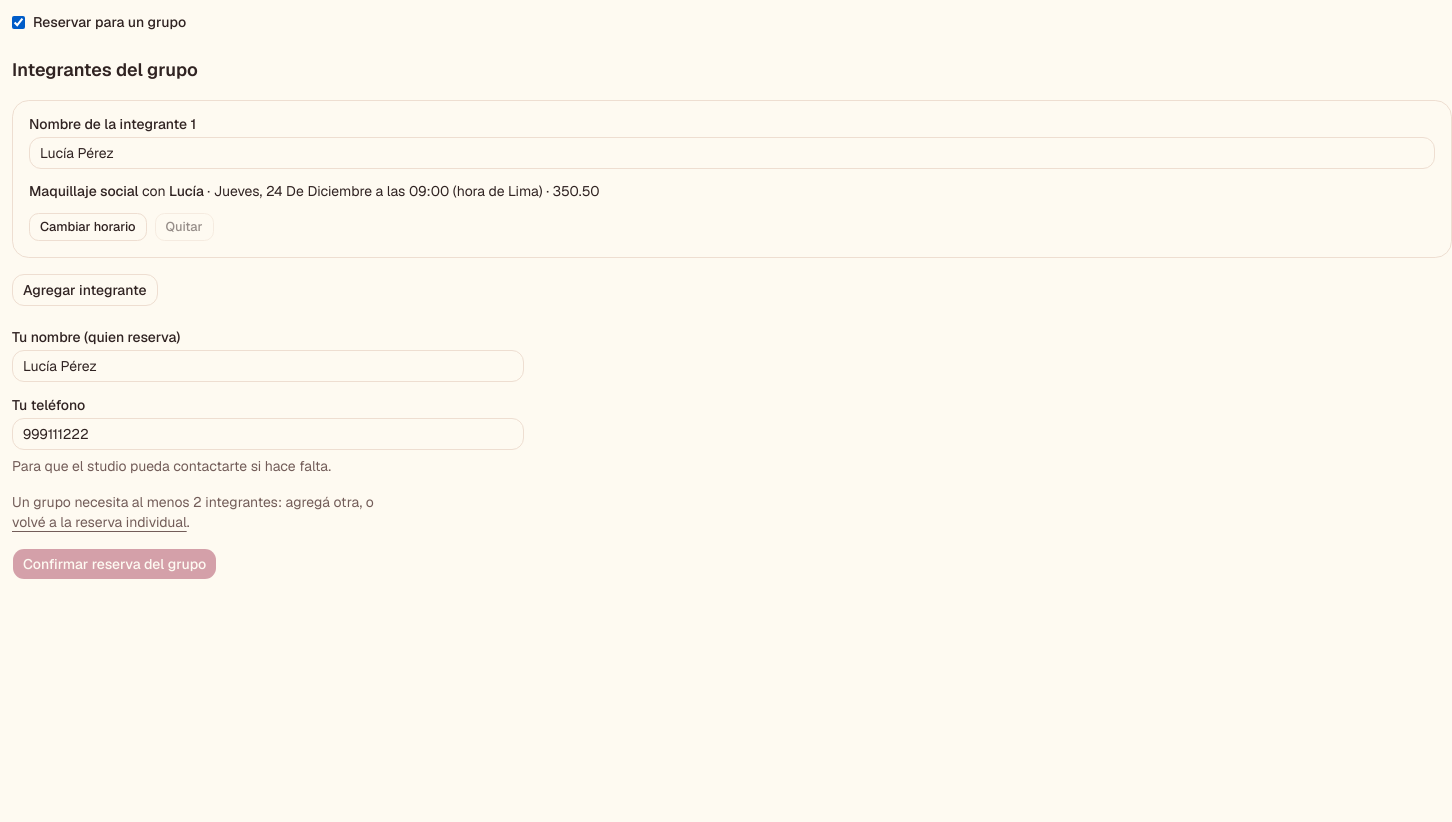
Test: armar el grupo › una integrante agregada aparece incompleta y no se puede confirmar
Click the button "Agregar integrante": x=85, y=290 [12,274,158,306]
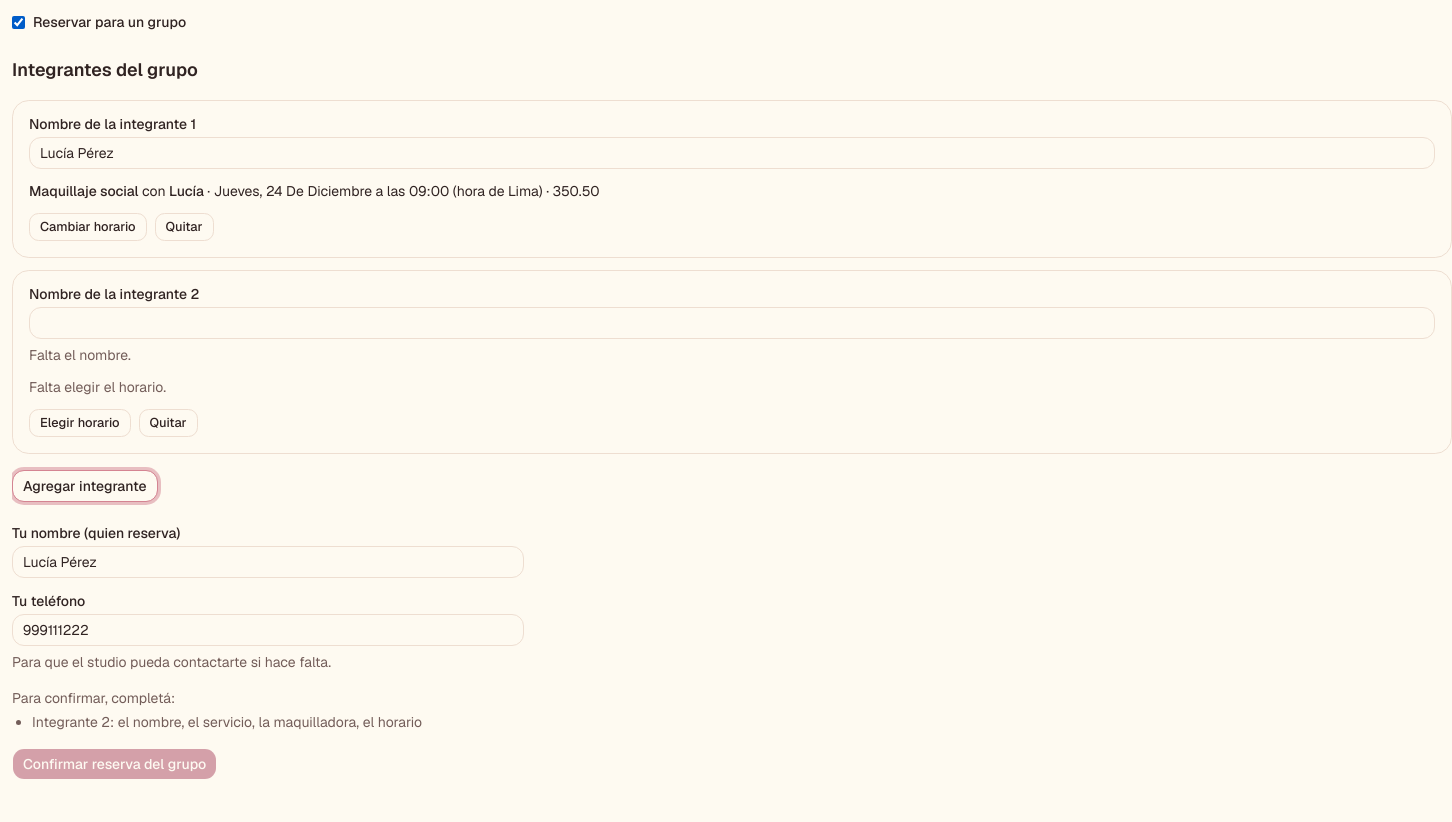
expect the field labelled "Nombre de la integrante 2" is empty: met, box [29,307,1435,339]
expect the text "Para confirmar, completá:" is shown: met, box [12,689,175,707]
expect the list item "Integrante 2: el nombre, el servicio, la maquilladora, el horario" is shown: met, box [32,713,422,731]
